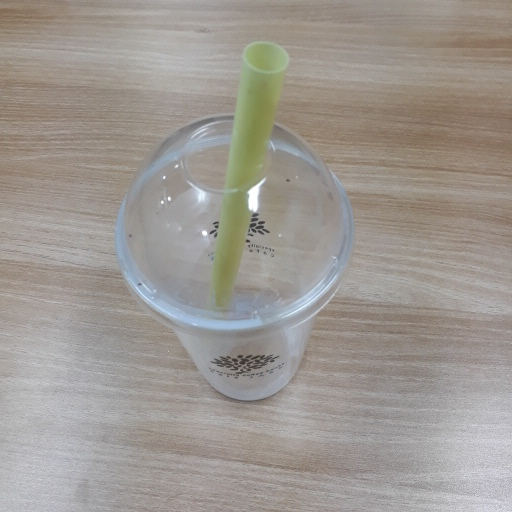Plastic_2: (108, 36, 357, 403)
